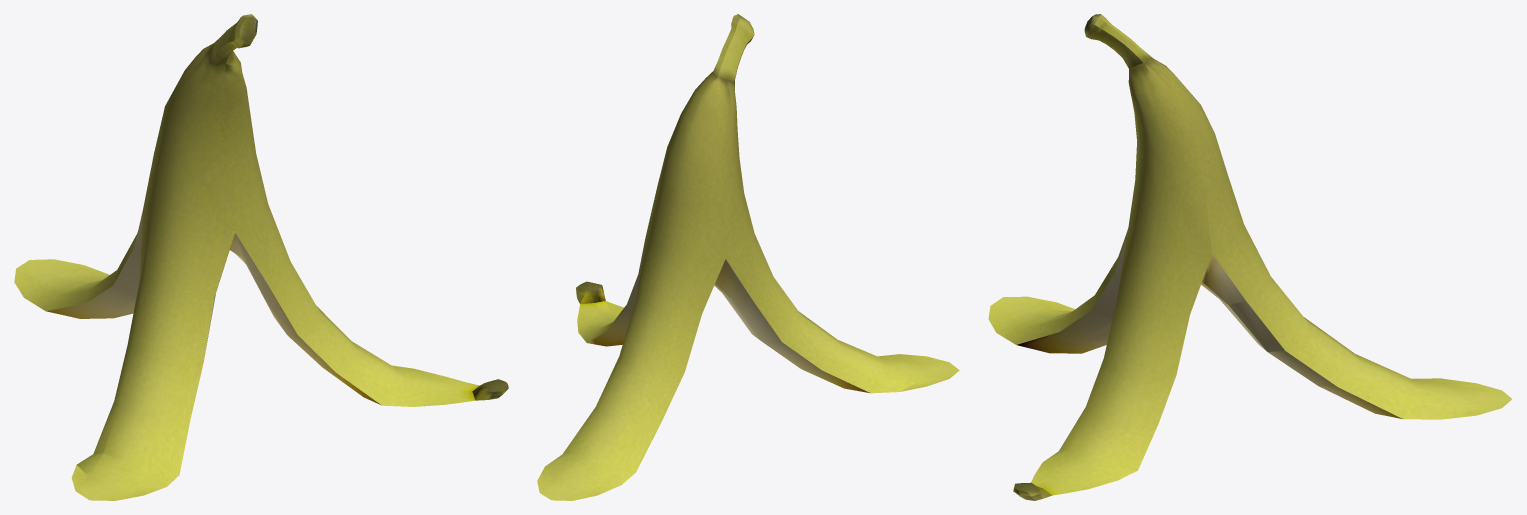
Rendered from banana.fbx.
The picture shows the model from 3 angles, left to right: view 1: azimuth 30°, elevation 25°; view 2: azimuth 150°, elevation 25°; view 3: azimuth 270°, elevation 25°; orthographic projection. The views are drawn at different scales.
Parts seen in each view (by area): view 1: Circle; view 2: Circle; view 3: Circle.
Boxes of the visible parts, x1=… form: Circle: x1=14, y1=14, x2=508, y2=500; Circle: x1=537, y1=14, x2=959, y2=500; Circle: x1=988, y1=14, x2=1511, y2=500.
Size of the model in its own units: 738 by 661 by 812.
